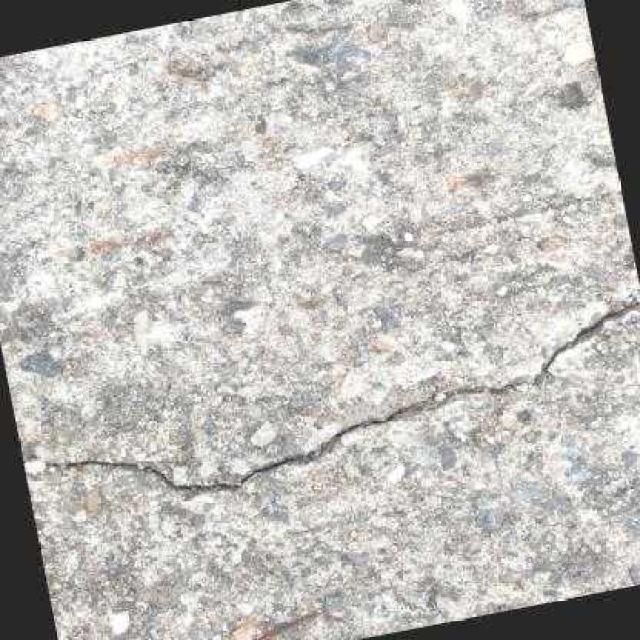D00: (50, 302, 640, 490)
